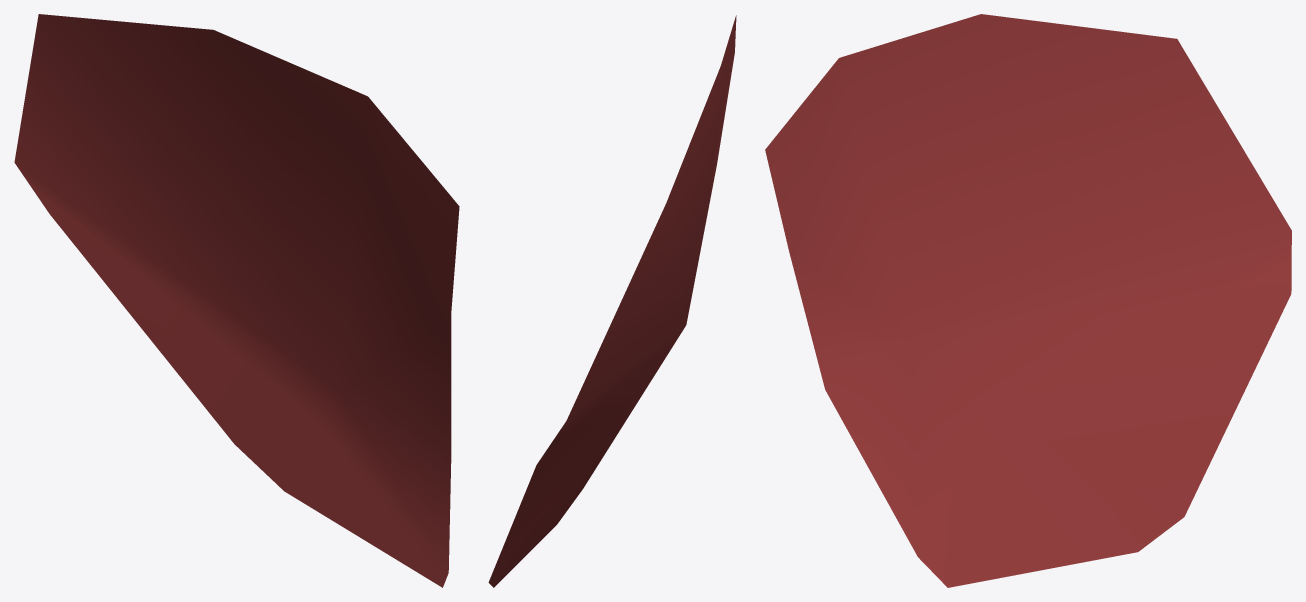
File: extensor-digitorum-longus-or.glb
3 views of the same model, side by side, from view 1: azimuth 30°, elevation 25°; view 2: azimuth 150°, elevation 25°; view 3: azimuth 270°, elevation 25° (orthographic). The views are drawn at different scales.
Visible parts, largest first — view 1: Extensor digitorum longus.or; view 2: Extensor digitorum longus.or; view 3: Extensor digitorum longus.or.
Boxes of the visible parts, x1,y1,x2,y2 form: Extensor digitorum longus.or: (14, 14, 459, 587); Extensor digitorum longus.or: (488, 15, 736, 587); Extensor digitorum longus.or: (765, 14, 1291, 587).
Size of the model in its own units: 0.00612 by 0.0131 by 0.0128.
